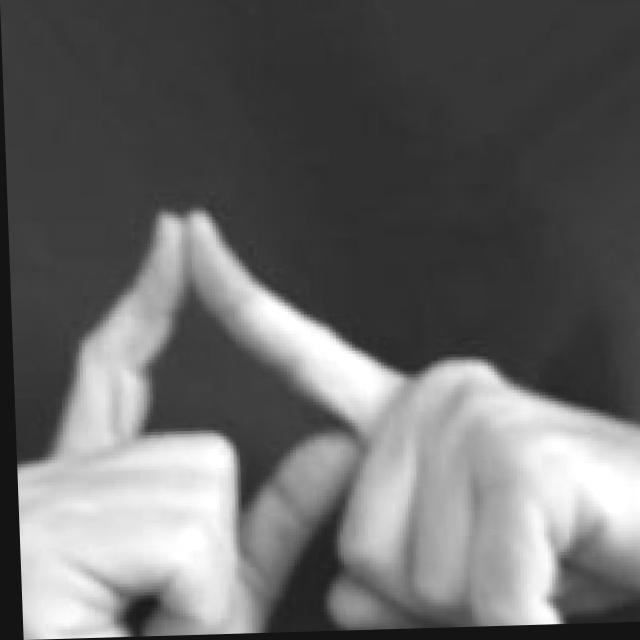D: (8, 191, 566, 640)
